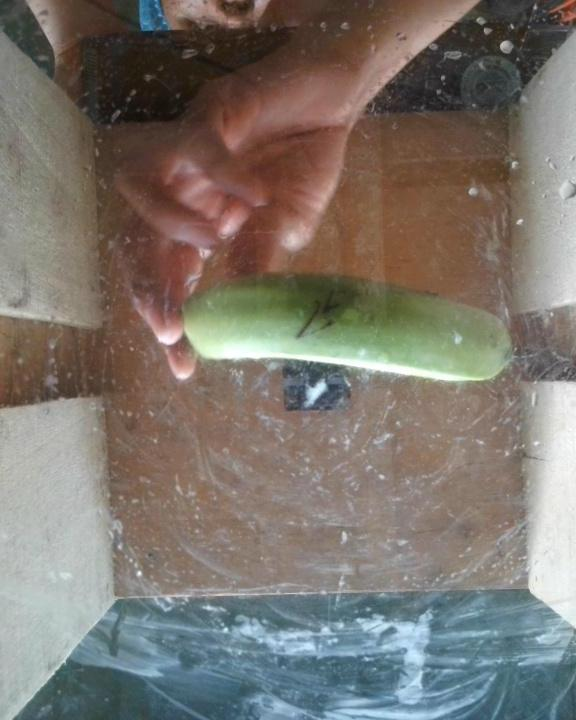CLASS B: (168, 268, 522, 387)
Class A: (286, 283, 360, 350)
